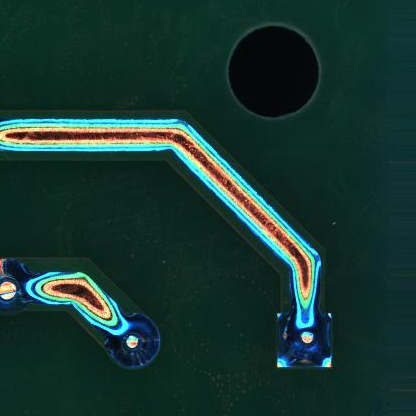spot: (271, 307, 335, 372), (107, 313, 161, 368)
